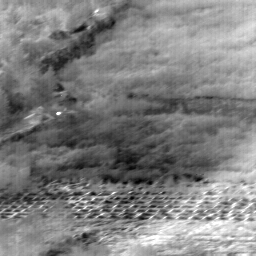aircraft: (58, 112, 60, 114)
